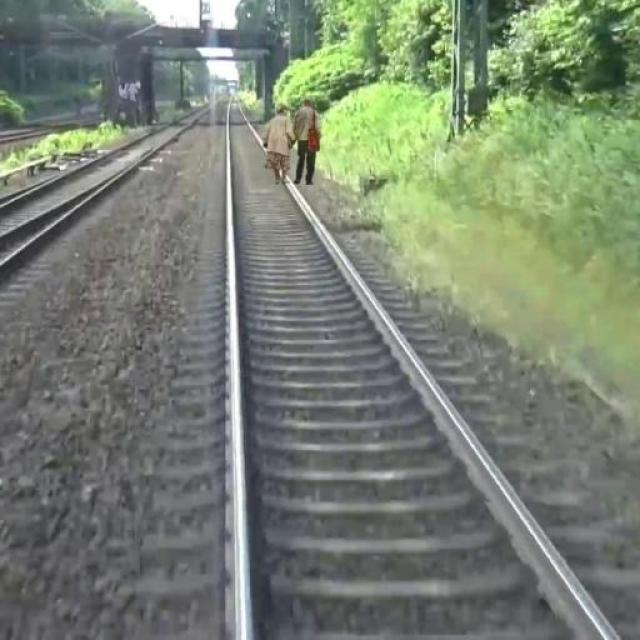people: (291, 93, 330, 184), (256, 100, 295, 184)
